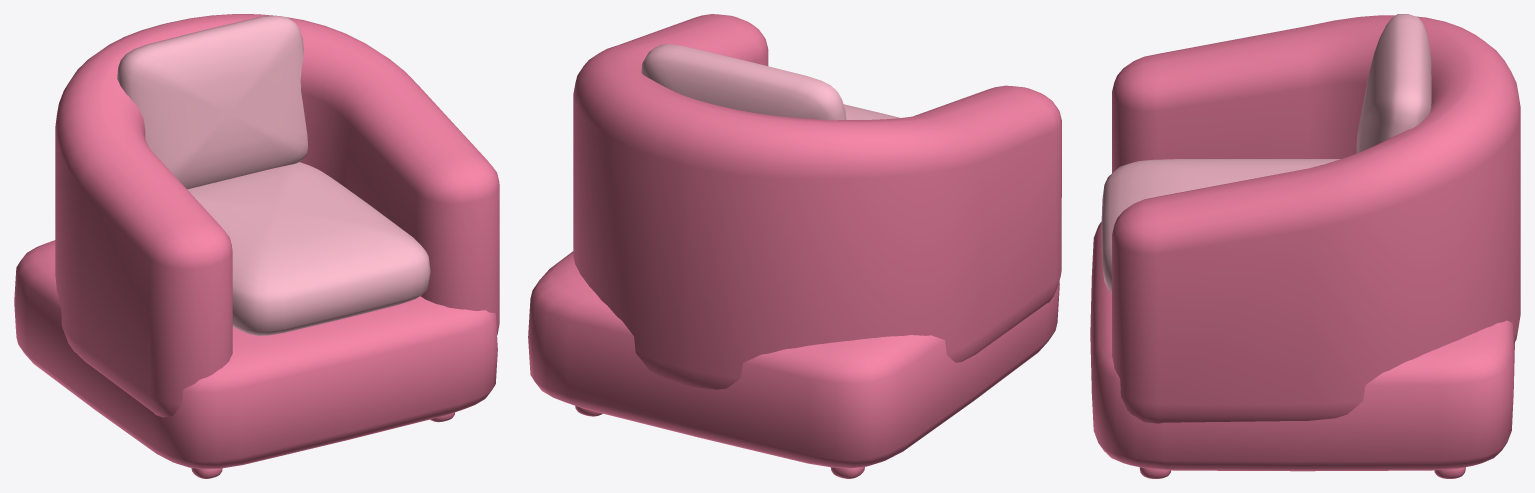
File: poltrona_casulo_rosa.glb
The picture shows the model from 3 angles, left to right: view 1: azimuth 30°, elevation 25°; view 2: azimuth 150°, elevation 25°; view 3: azimuth 270°, elevation 25°; orthographic projection. The views are drawn at different scales.
Visible parts, largest first — view 1: poltrona_casulo_rosa; view 2: poltrona_casulo_rosa; view 3: poltrona_casulo_rosa.
Boxes of the visible parts, left/top/right/bottom form: poltrona_casulo_rosa: left=14, top=14, right=499, bottom=478; poltrona_casulo_rosa: left=528, top=14, right=1061, bottom=478; poltrona_casulo_rosa: left=1090, top=14, right=1520, bottom=478.
Size of the model in its own units: 0.8 by 0.736 by 0.79.
1 material, 1 textured.
